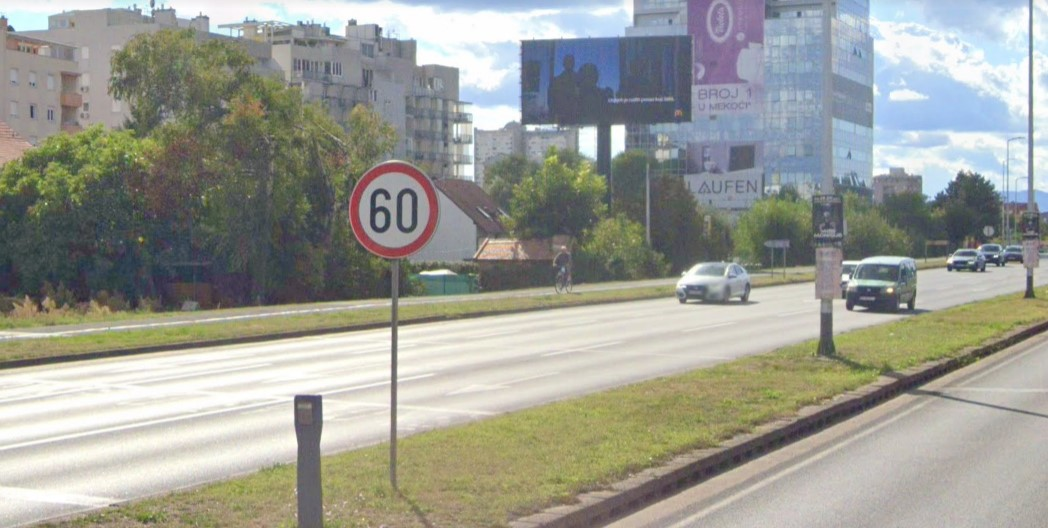Ograničenje brzine 60: (349, 160, 440, 259)
